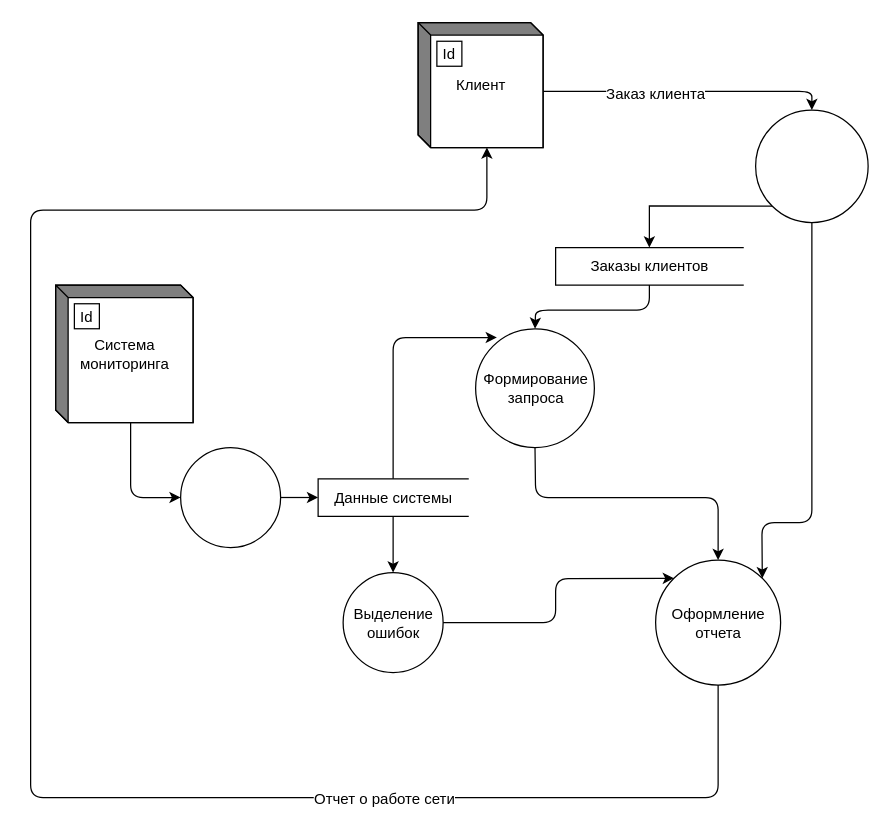
The diagram is 890 pixels wide and 829 high, and some of its shapes have lost their labels. Here are the shapes that lost their labels. From the top down, the centre of each, then its label:
At pixel 811 165: "Обработка заказа клиента".
At pixel 230 497: "Обработка данных системы".
